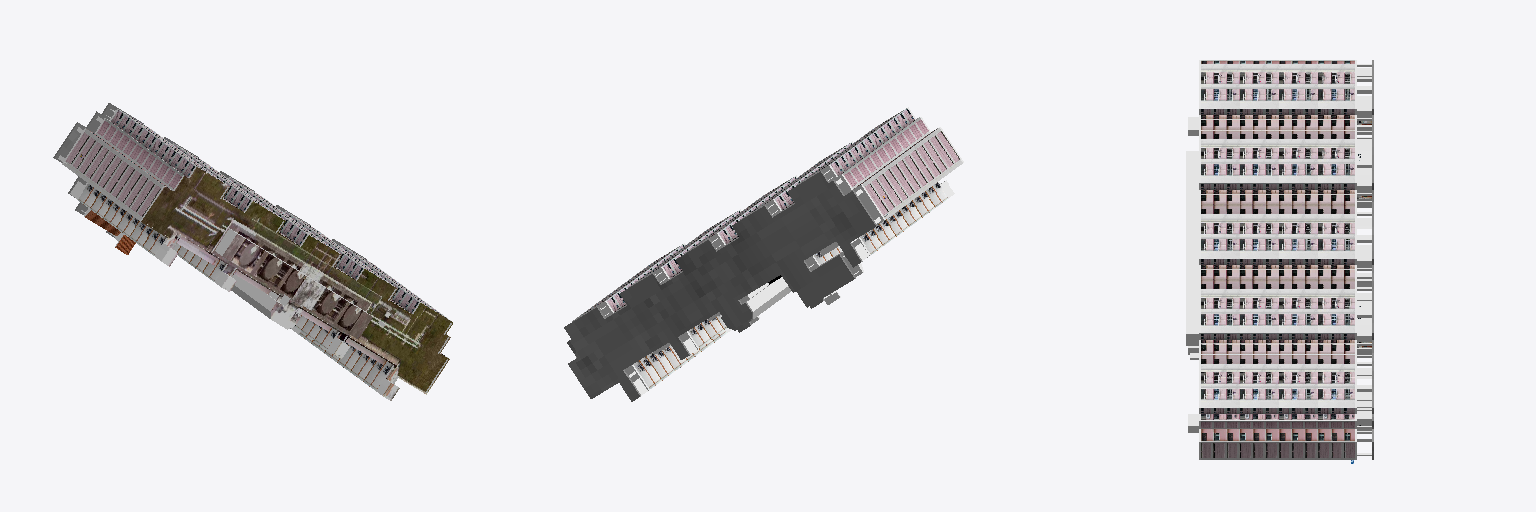
The picture shows the model from 3 angles: view 1: azimuth 30°, elevation 25°; view 2: azimuth 150°, elevation 25°; view 3: azimuth 270°, elevation 25°; orthographic projection.
Visible parts, largest first — view 1: polygon.806; view 2: polygon.806; view 3: polygon.806.
Boxes of the visible parts, <box> form: polygon.806: <box>53,103,452,400</box>; polygon.806: <box>564,107,963,401</box>; polygon.806: <box>1186,60,1373,463</box>.
Bounding box in the file's own units: 78.49 × 68.48 × 40.81.
1 materials, 1 textured.